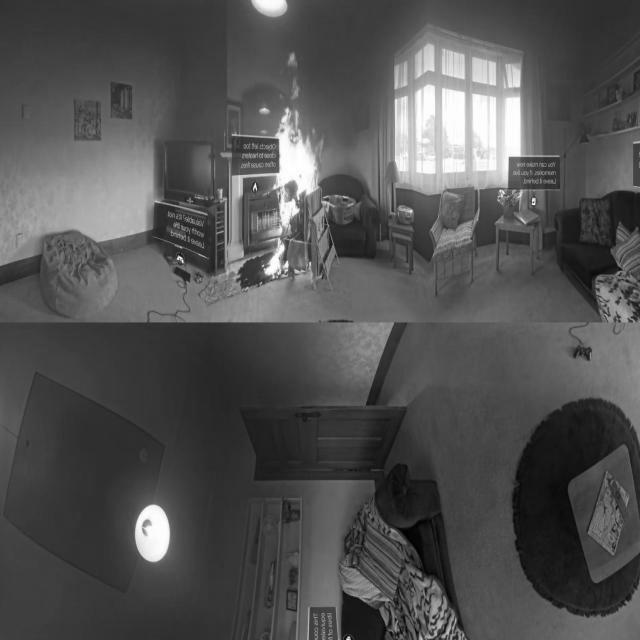smoke: (264, 51, 326, 276)
